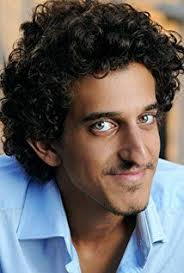middle_eastern_male: (66, 72, 165, 218)
